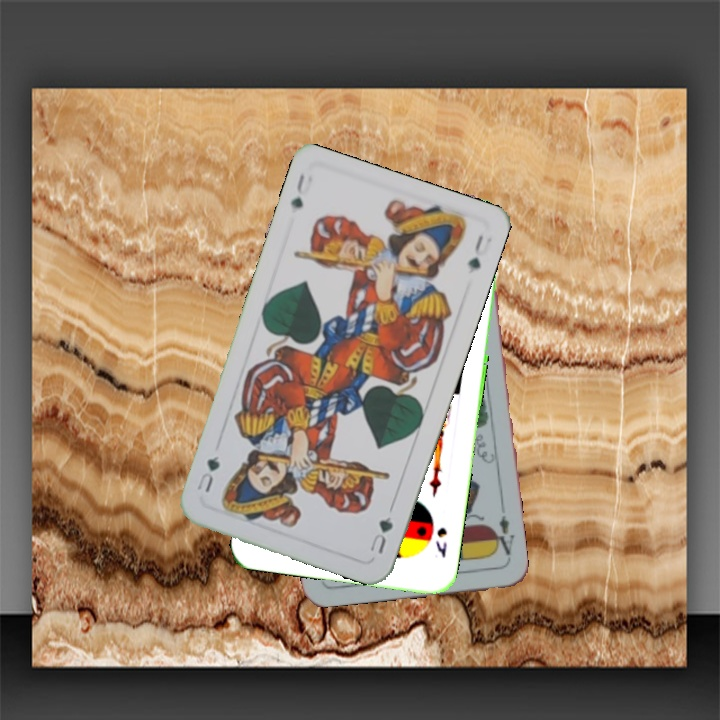EA: (489, 511, 517, 562)
GU: (364, 512, 396, 556), (286, 168, 315, 212)
SK: (431, 523, 450, 561)
